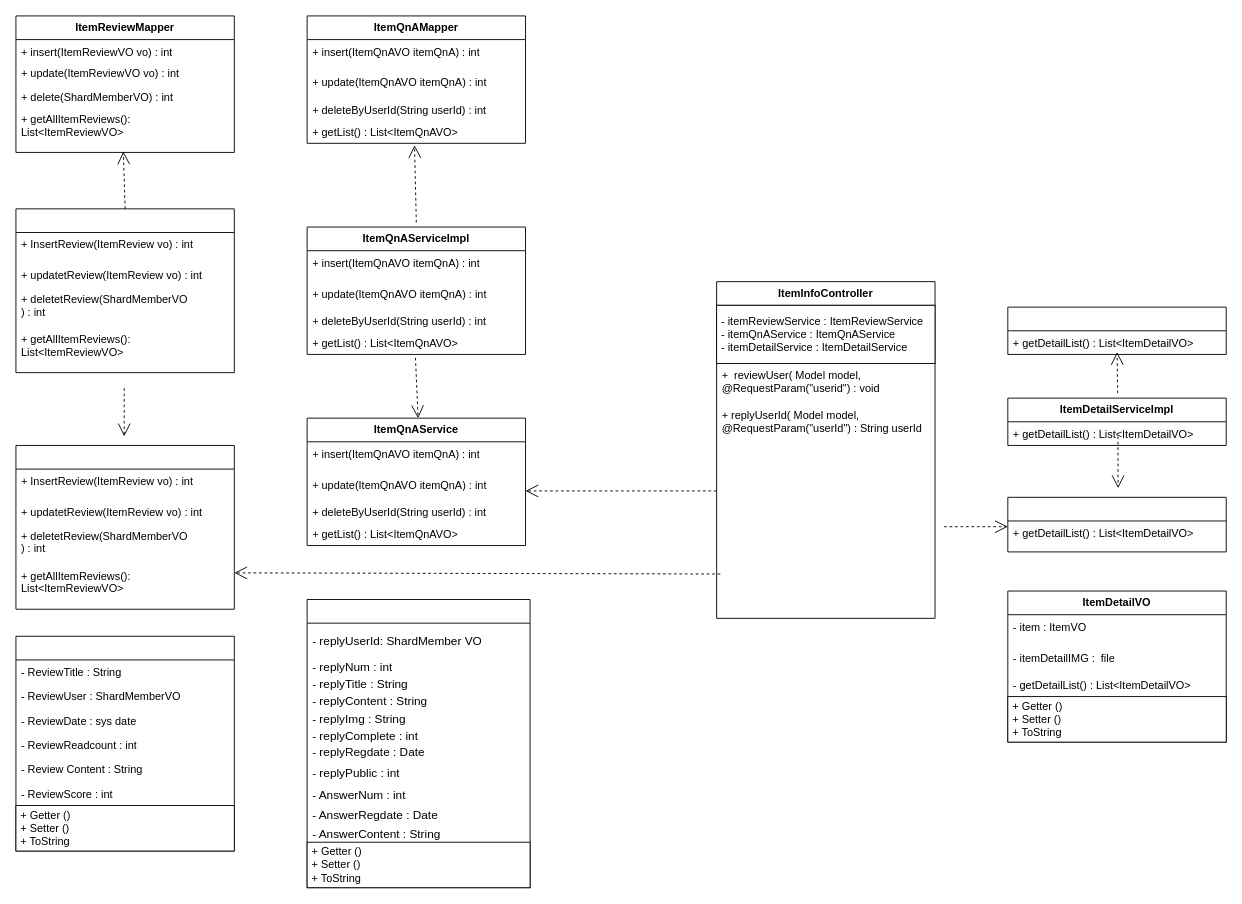
This 1242x904 diagram has some shape labels left out. Each missing label, with the box of its shape:
ItemDetailMapper: (1007, 306, 1226, 354)
ItemDetailService: (1007, 496, 1226, 552)
ItemQnAVO: (306, 599, 530, 888)
ItemReviewService: (15, 445, 234, 609)
ItemReviewServiceImpl: (15, 208, 234, 373)
ItemReviewVO: (15, 635, 234, 851)
